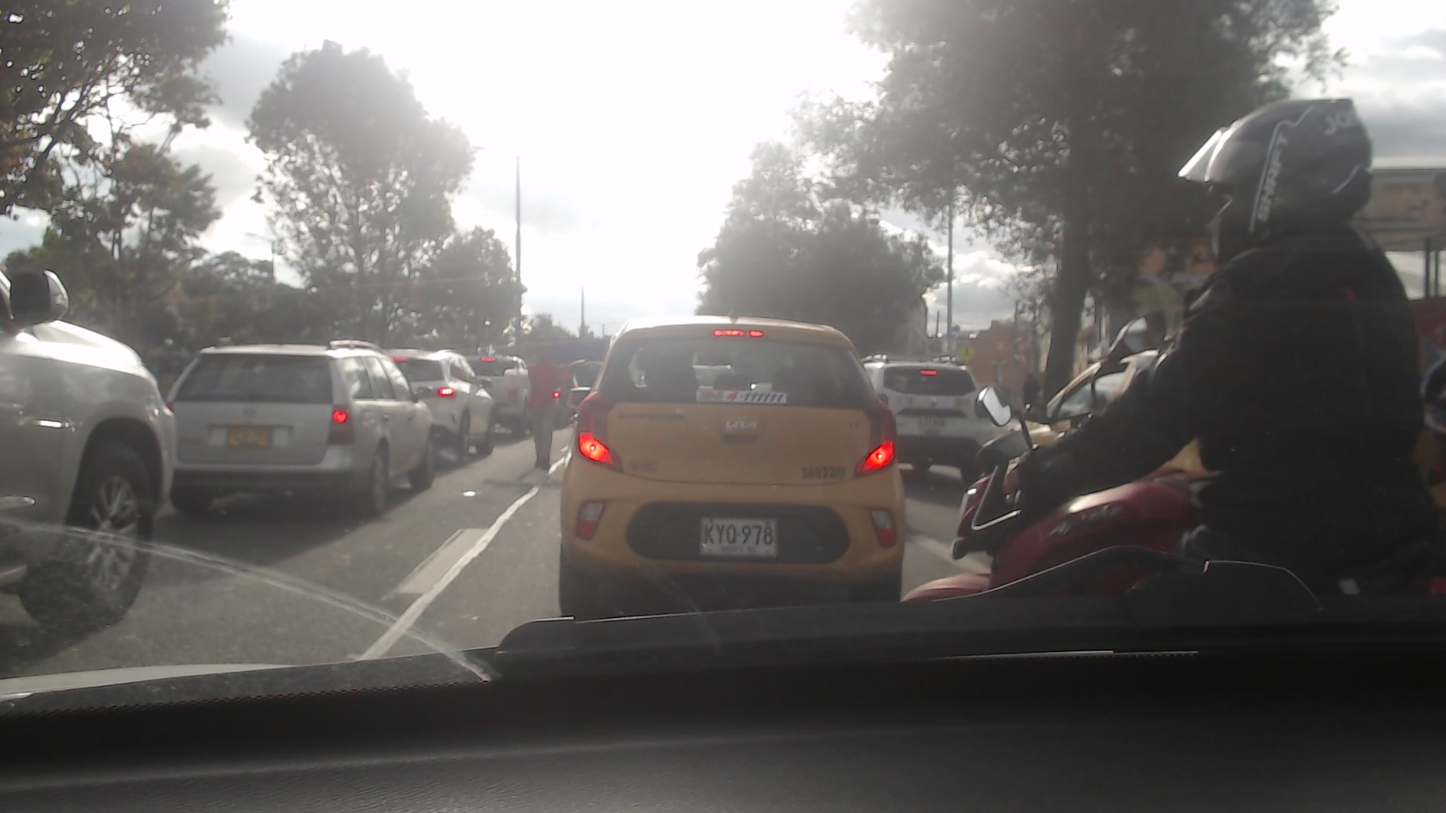car: (563, 309, 902, 612), (163, 346, 439, 519), (863, 353, 1000, 477), (382, 349, 500, 452), (460, 358, 532, 429)
motorcycle: (922, 396, 1446, 630)
person: (1127, 79, 1442, 578), (521, 347, 564, 468)
